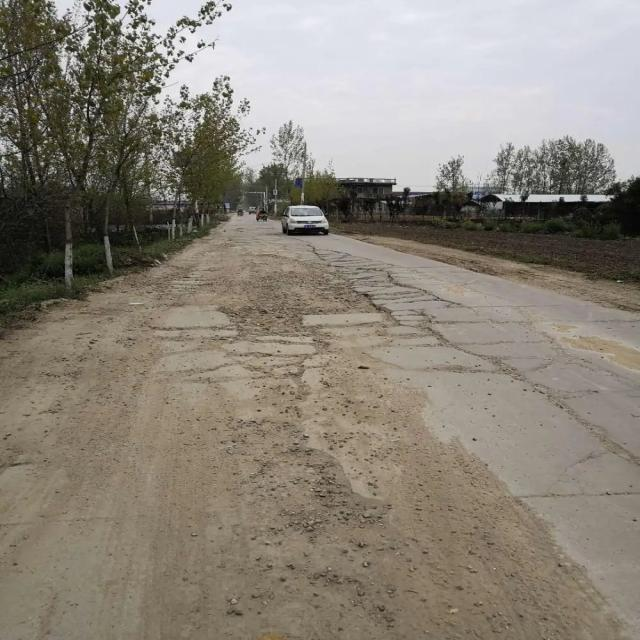Pothole: (181, 257, 404, 338)
